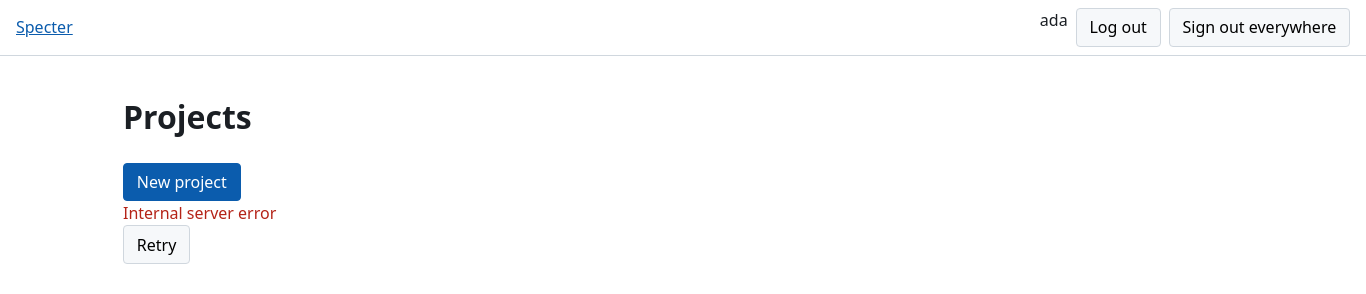
Test case: ProjectsPage › shows the server message and a Retry button when the list cannot be loaded
Expected: the text "Internal server error" is shown, [123,202,276,224]
Click the button "Retry".
click(157, 245)  # box [123,225,190,264]
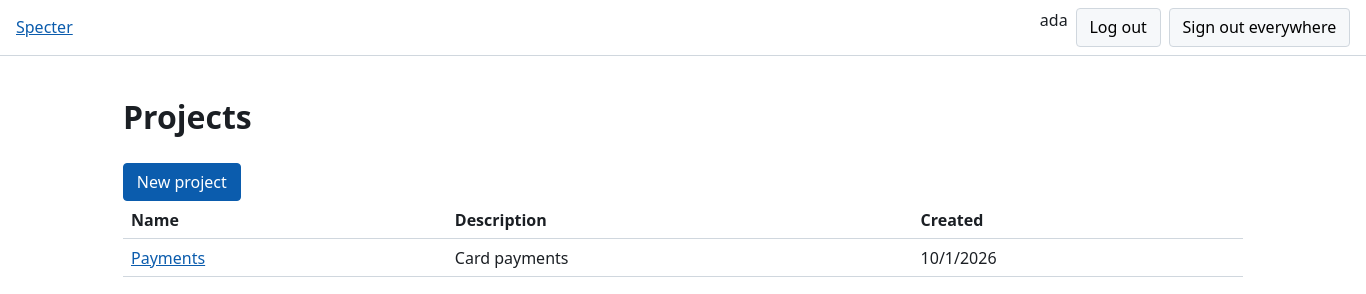
Expected: the link "Payments" is shown, [131,247,205,269]
